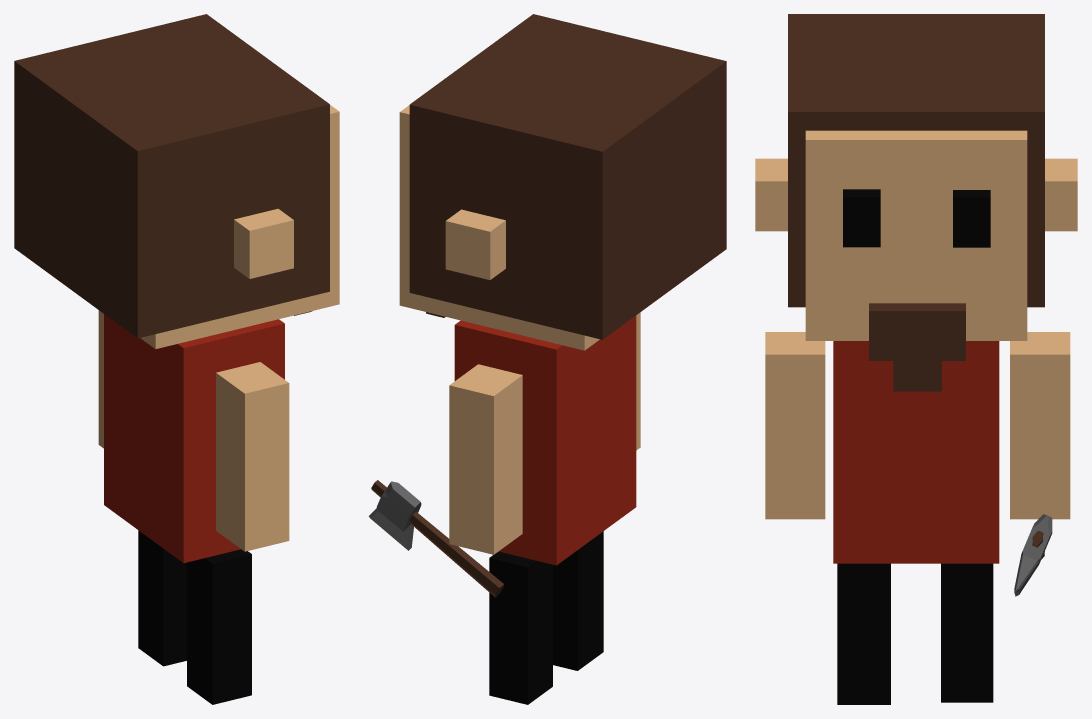
Rendered from Chara-H_bois.fbx.
3 renders of one model, left to right at view 1: azimuth 30°, elevation 25°; view 2: azimuth 150°, elevation 25°; view 3: azimuth 270°, elevation 25°, orthographic. The views are drawn at different scales.
Parts seen in each view (by area): view 1: Cube.010; view 2: Cube.010; view 3: Cube.010.
Part boxes in pixels (<box>): Cube.010: <box>14,14,339,704</box>; Cube.010: <box>368,14,726,704</box>; Cube.010: <box>755,14,1077,704</box>.
Size of the model in its own units: 73.99 by 170 by 80.14.
